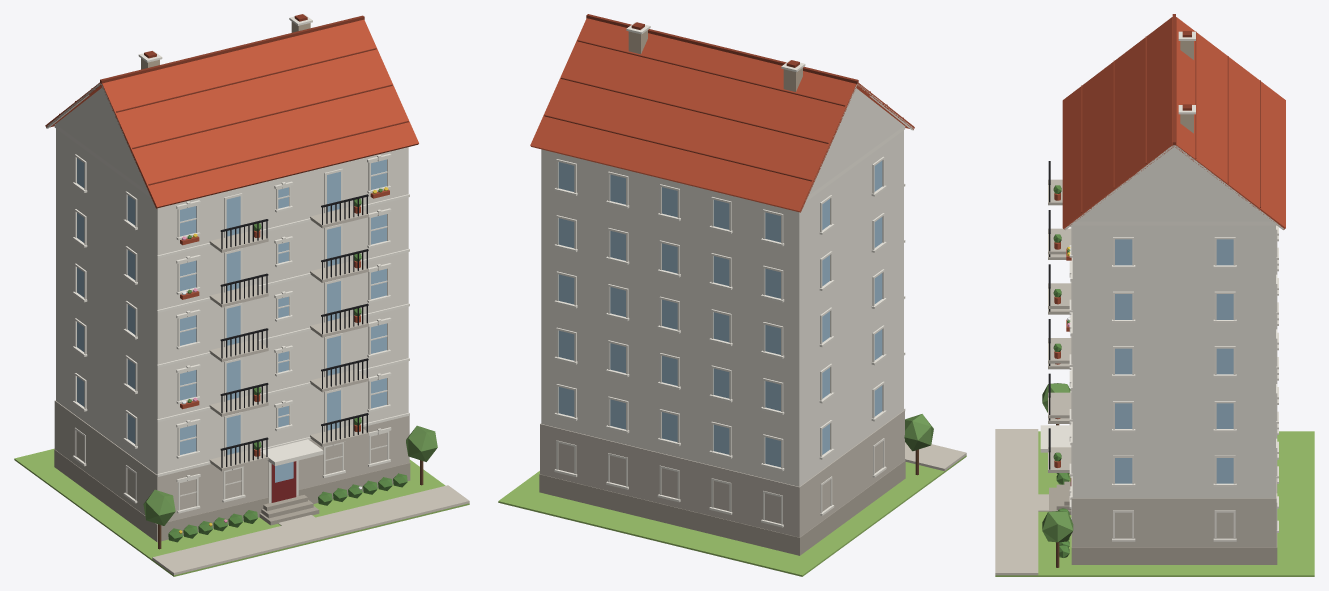
Rendered from Apartman_1_1_Hafif.fbx.
3 views of the same model, side by side, from view 1: azimuth 30°, elevation 25°; view 2: azimuth 150°, elevation 25°; view 3: azimuth 270°, elevation 25° (orthographic). The views are drawn at different scales.
Parts seen in each view (by area): view 1: Apartman_1_1_Hafif; view 2: Apartman_1_1_Hafif; view 3: Apartman_1_1_Hafif.
Part boxes in pixels (box(x1,y1,x2,y2)): Apartman_1_1_Hafif: box(14, 14, 469, 576); Apartman_1_1_Hafif: box(498, 14, 966, 576); Apartman_1_1_Hafif: box(995, 14, 1314, 576).
Size of the model in its own units: 15.86 by 22.31 by 14.84.
